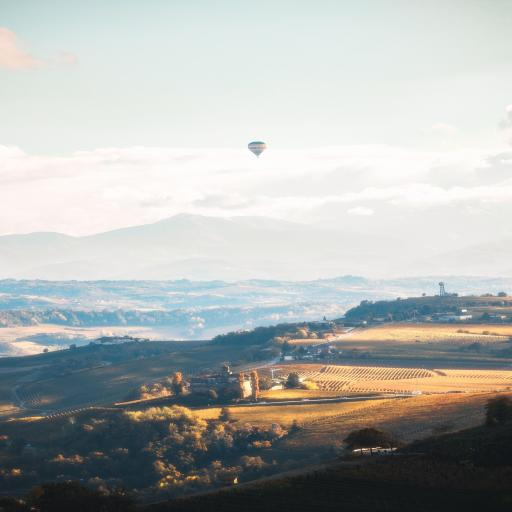hot air ballon: (242, 138, 272, 158)
